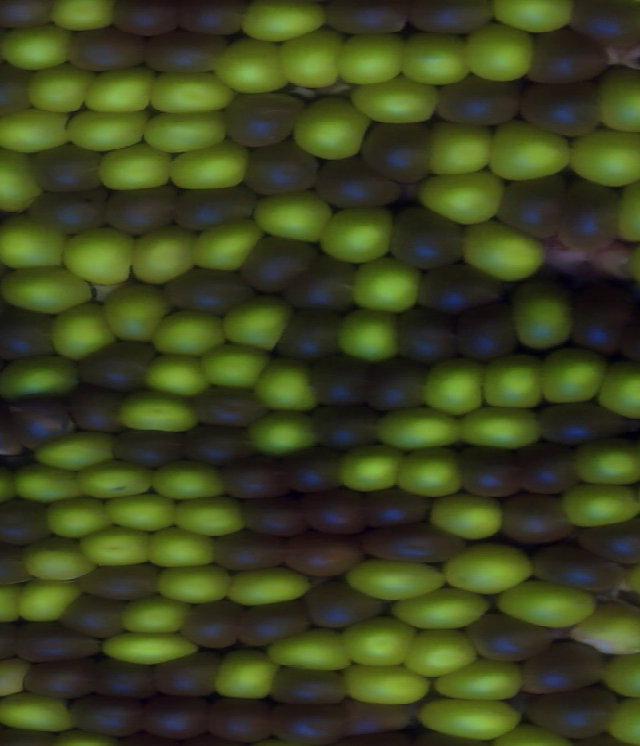fluorescent: (481, 116, 580, 186), (457, 215, 553, 286), (308, 201, 400, 270), (412, 167, 514, 229), (494, 577, 603, 634), (288, 92, 374, 164), (440, 539, 541, 598), (341, 552, 453, 605), (124, 219, 208, 289), (60, 221, 143, 291), (415, 693, 530, 743), (0, 259, 99, 317), (505, 278, 578, 354), (389, 584, 495, 636), (261, 622, 357, 679), (460, 18, 540, 86), (474, 345, 555, 412), (348, 73, 448, 127), (375, 402, 475, 456), (215, 289, 298, 354), (208, 35, 295, 97), (165, 138, 258, 196), (97, 279, 175, 348), (98, 622, 207, 671), (563, 123, 640, 192), (535, 340, 612, 409), (252, 187, 337, 249), (346, 253, 429, 316), (45, 297, 124, 363), (434, 653, 532, 706), (339, 659, 437, 712), (186, 213, 267, 277), (331, 27, 415, 88), (419, 118, 503, 179), (452, 403, 553, 453), (146, 63, 243, 115), (195, 338, 279, 398), (419, 351, 491, 421), (115, 385, 210, 438), (338, 613, 423, 672), (0, 349, 87, 406), (0, 209, 76, 274), (249, 353, 325, 418), (147, 308, 235, 364), (425, 489, 513, 545), (331, 303, 409, 366), (275, 26, 349, 92), (401, 624, 483, 683), (32, 423, 125, 475), (93, 138, 176, 196), (327, 439, 411, 496), (140, 106, 232, 158), (567, 599, 640, 664), (397, 29, 476, 89), (565, 429, 640, 492), (238, 404, 325, 458), (391, 441, 472, 499), (232, 1, 333, 47), (24, 60, 104, 118), (79, 63, 162, 118), (6, 572, 88, 627), (558, 479, 640, 534), (69, 458, 162, 506), (211, 644, 284, 705), (64, 105, 151, 156), (40, 492, 123, 544), (169, 492, 252, 544), (138, 347, 217, 400), (589, 57, 640, 139), (19, 535, 101, 585), (145, 455, 234, 501), (0, 141, 52, 219), (145, 522, 223, 574), (0, 105, 75, 159), (0, 686, 82, 735), (224, 562, 315, 606), (155, 558, 235, 608), (115, 591, 198, 639), (0, 20, 74, 72), (12, 459, 90, 508), (103, 489, 182, 537), (482, 1, 581, 39), (80, 522, 155, 570), (592, 356, 640, 424), (43, 1, 122, 39), (609, 169, 640, 248), (598, 645, 640, 703), (603, 691, 640, 746), (0, 578, 32, 628)
nonfluorescent: (487, 169, 575, 246), (354, 112, 438, 190), (232, 229, 325, 299), (425, 73, 533, 133), (382, 200, 467, 276), (69, 335, 165, 402), (523, 539, 632, 598), (215, 89, 313, 154), (522, 682, 628, 742), (409, 258, 508, 322), (561, 280, 640, 360), (310, 153, 406, 218), (549, 175, 625, 257), (155, 261, 262, 319), (354, 520, 473, 572), (523, 23, 615, 89), (460, 607, 561, 667), (517, 637, 611, 701), (235, 137, 326, 202), (515, 79, 611, 140), (276, 252, 362, 320), (450, 294, 526, 370), (264, 302, 350, 369), (8, 614, 115, 667), (493, 485, 578, 549), (98, 179, 185, 241), (22, 184, 117, 240), (61, 22, 153, 79), (138, 27, 235, 81), (531, 399, 637, 448), (305, 398, 393, 457), (301, 578, 386, 639), (454, 439, 530, 507), (71, 558, 170, 610), (27, 137, 110, 199), (294, 483, 378, 544), (169, 183, 269, 234), (390, 302, 463, 371), (507, 437, 588, 499), (5, 389, 82, 453), (279, 529, 368, 584), (305, 349, 380, 414), (81, 651, 169, 706), (105, 424, 198, 476), (262, 660, 358, 710), (59, 380, 136, 442), (186, 379, 276, 432), (133, 689, 216, 746), (212, 451, 298, 506), (355, 483, 440, 538), (65, 689, 150, 744), (231, 597, 317, 651), (365, 350, 432, 419), (20, 655, 108, 707), (262, 698, 357, 746), (177, 418, 262, 471), (203, 691, 288, 743), (210, 524, 293, 577), (57, 587, 135, 643), (0, 302, 65, 368), (147, 647, 226, 701), (237, 488, 314, 543), (175, 597, 248, 654), (316, 1, 420, 40), (278, 442, 348, 499), (398, 1, 501, 39), (0, 491, 60, 555), (334, 695, 419, 740), (564, 1, 640, 48), (105, 1, 192, 42), (577, 515, 640, 569), (168, 1, 252, 39), (0, 535, 38, 598), (607, 303, 640, 372), (0, 1, 61, 38), (0, 60, 36, 121)
